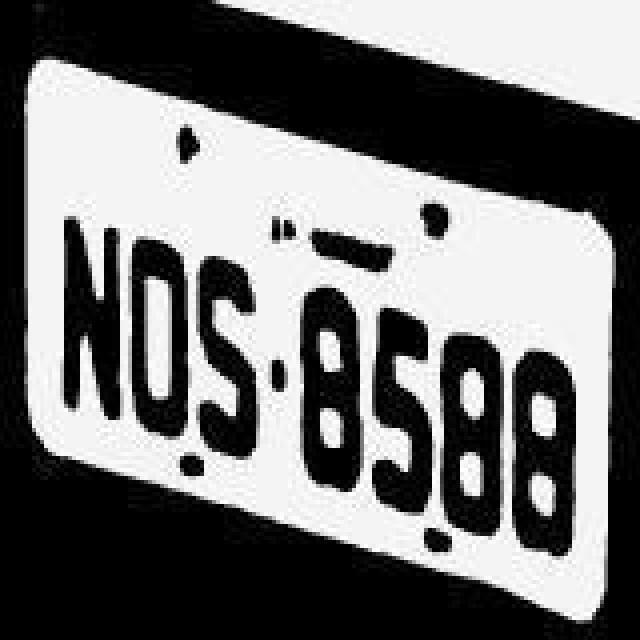5: (362, 304, 438, 528)
8: (512, 336, 592, 560), (288, 278, 368, 490), (440, 320, 512, 544)
N: (58, 210, 126, 430)
O: (120, 226, 192, 446)
S: (192, 248, 272, 464)
